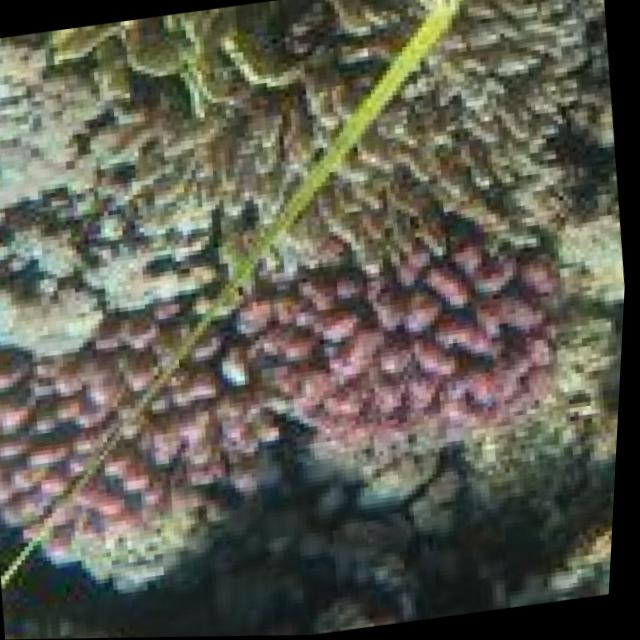Healthy Coral: (0, 252, 589, 570), (64, 0, 625, 296)
